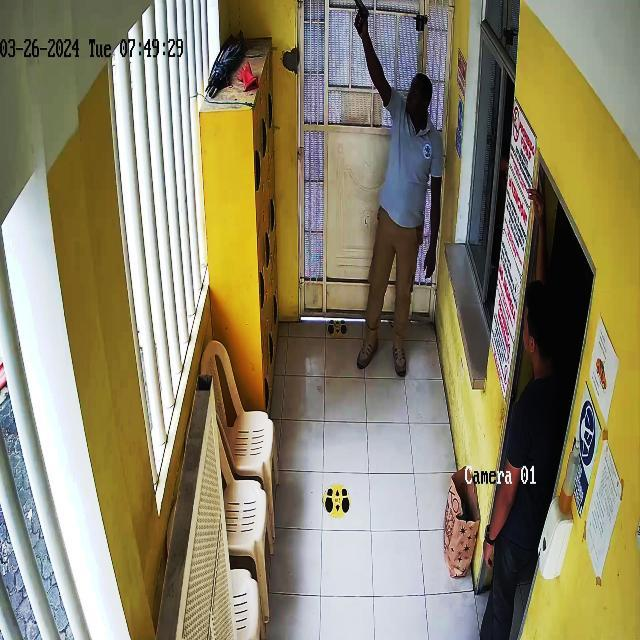Gun: (342, 1, 372, 32)
